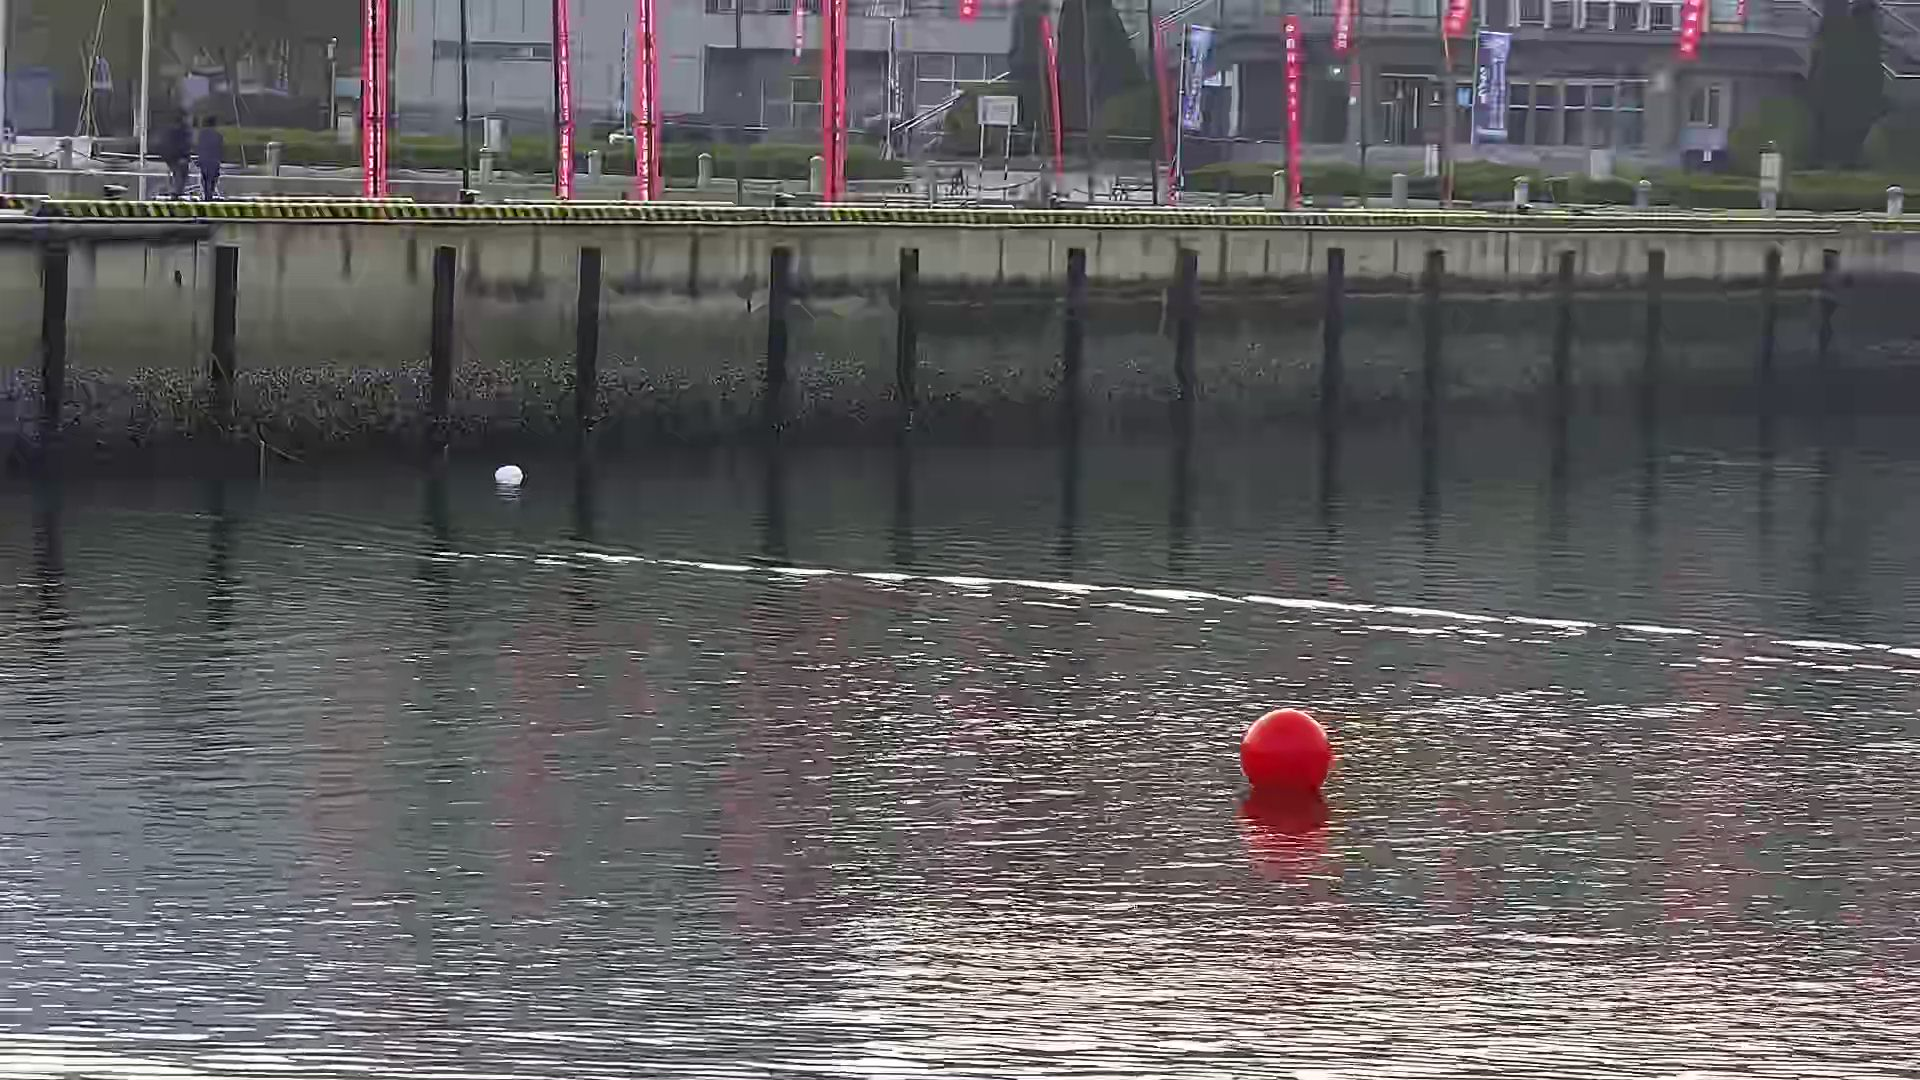ball: (1240, 705, 1335, 794)
rubbish: (487, 460, 525, 484)
